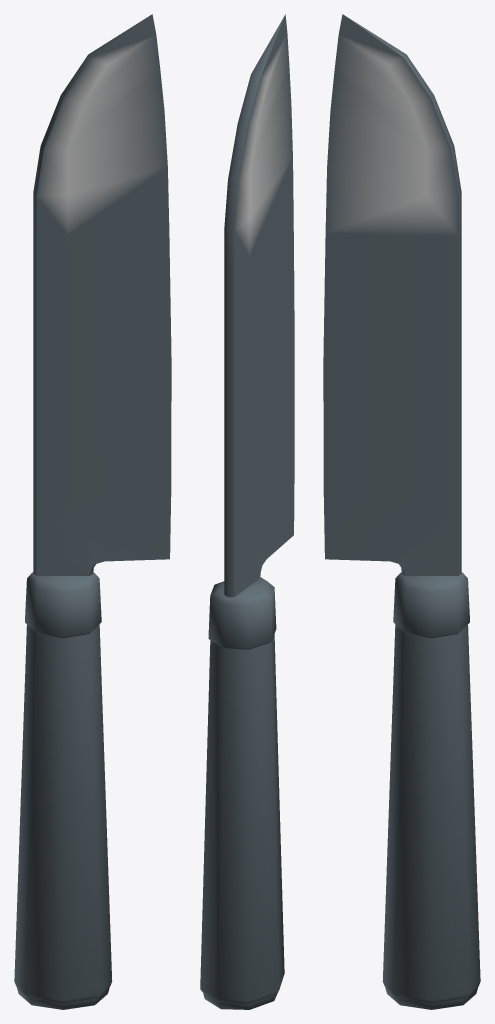
File: Cuttlery-SantokuKnife.fbx
3 views of the same model, side by side, from view 1: azimuth 90°, elevation 25°; view 2: azimuth 150°, elevation 25°; view 3: azimuth 270°, elevation 25° (orthographic). The views are drawn at different scales.
Parts seen in each view (by area): view 1: Cuttlery-SantokuKnife; view 2: Cuttlery-SantokuKnife; view 3: Cuttlery-SantokuKnife.
Part boxes in pixels (x1,y1,x2,y2): Cuttlery-SantokuKnife: (14,14,171,1009); Cuttlery-SantokuKnife: (200,14,294,1009); Cuttlery-SantokuKnife: (323,14,480,1009).
Bounding box in the file's own units: 118 × 1464 × 212.
